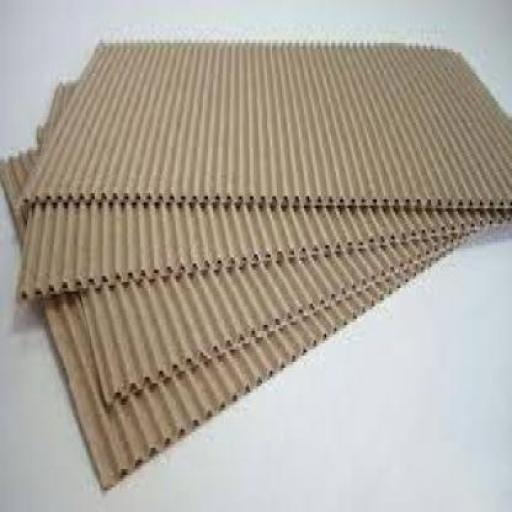cardboard: (0, 147, 476, 488), (30, 122, 510, 410), (12, 80, 510, 298), (14, 40, 510, 215)
